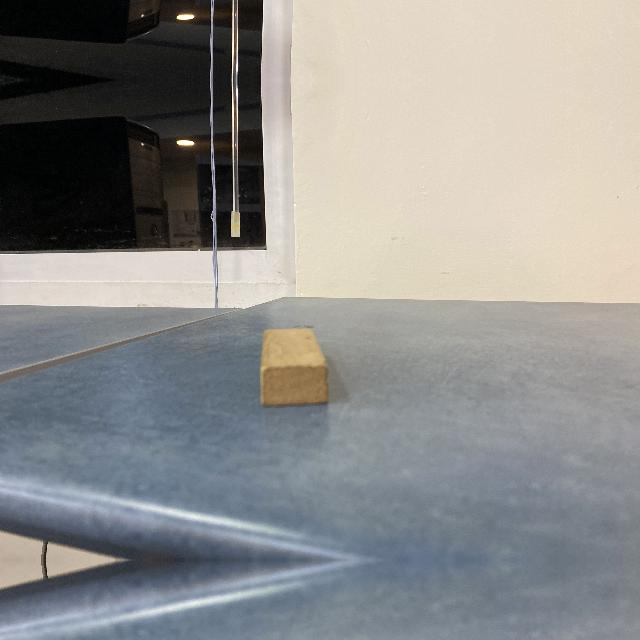jenga: (261, 328, 327, 407)
